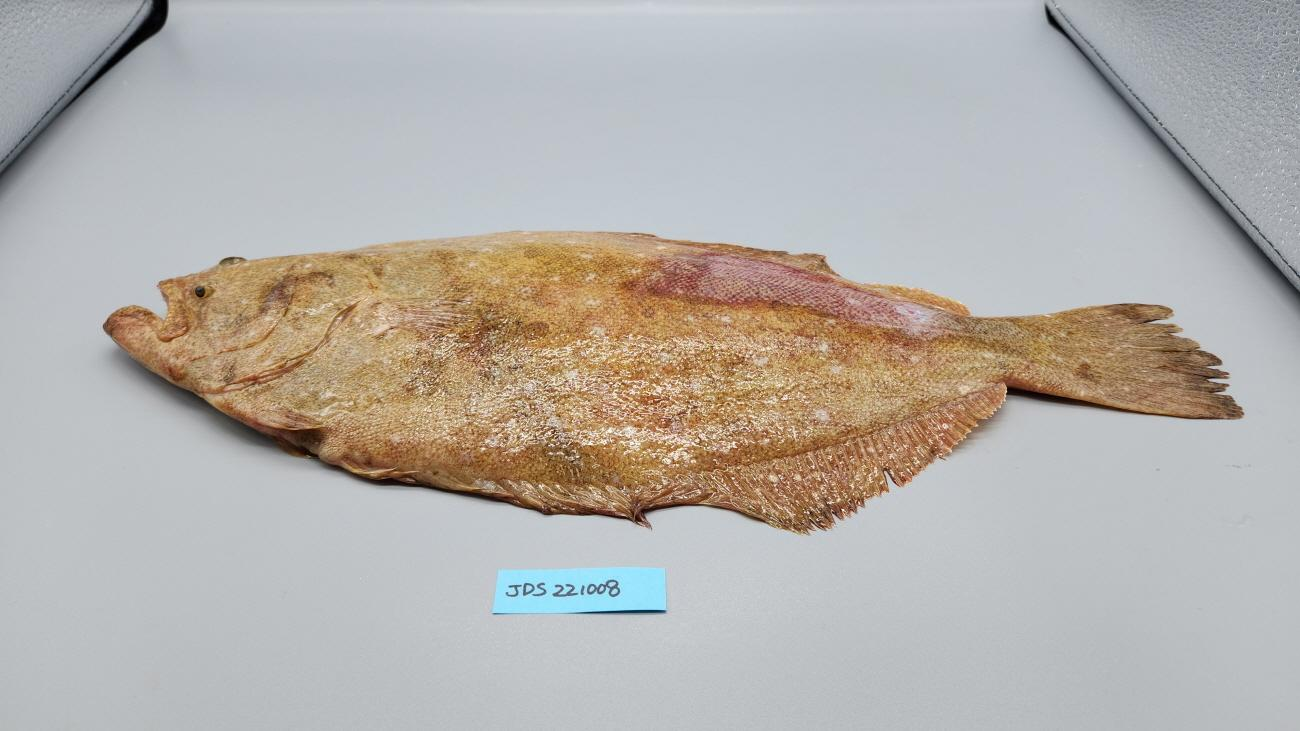VIDYU: (625, 249, 930, 339)
VIOUY: (90, 228, 1245, 535)
